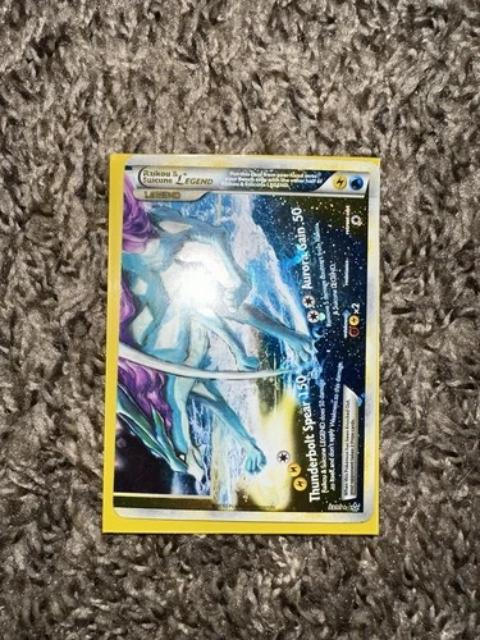Card: (110, 150, 385, 526)
Name: (138, 163, 218, 191)
